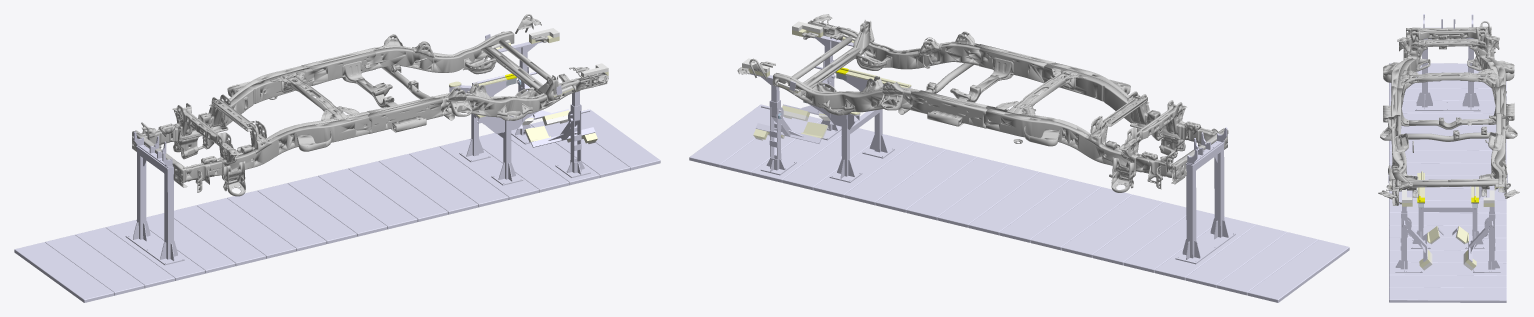
The model's file is layout6_Chassis_Line.glb.
3 renders of one model, left to right at view 1: azimuth 30°, elevation 25°; view 2: azimuth 150°, elevation 25°; view 3: azimuth 270°, elevation 25°, orthographic. The views are drawn at different scales.
Visible parts, largest first — view 1: part_0, 0201ABM02780N-012-FRAME ASSY 4WD (2) (1); view 2: part_0, 0201ABM02780N-012-FRAME ASSY 4WD (2) (1); view 3: part_0, 0201ABM02780N-012-FRAME ASSY 4WD (2) (1).
Part boxes in pixels (x1,y1,x2,y2): part_0: (14,28,660,302); 0201ABM02780N-012-FRAME ASSY 4WD (2) (1): (132,14,608,196); part_0: (689,21,1349,302); 0201ABM02780N-012-FRAME ASSY 4WD (2) (1): (737,14,1228,192); part_0: (1388,14,1507,302); 0201ABM02780N-012-FRAME ASSY 4WD (2) (1): (1378,21,1519,205).
Bounding box in the file's own units: 5.7 × 1.18 × 1.44.
